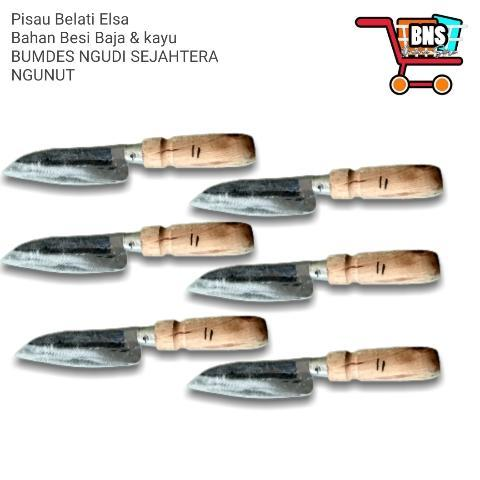faca: (16, 316, 267, 368), (188, 347, 440, 398), (4, 134, 255, 185), (191, 165, 442, 216), (189, 250, 440, 301), (3, 222, 253, 273)
